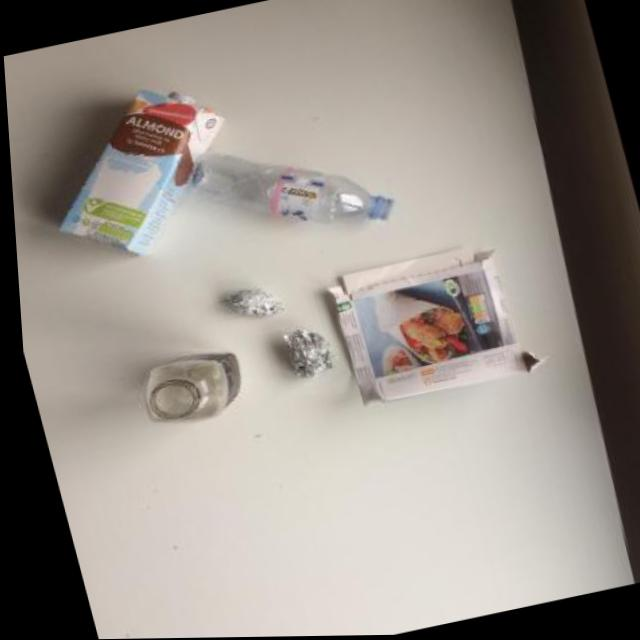cardboard: (27, 73, 259, 273), (321, 235, 556, 411)
metal: (282, 322, 341, 382), (222, 281, 288, 324)
plastic: (177, 118, 405, 259), (134, 344, 254, 432)
